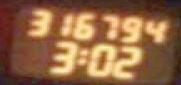0: (87, 41, 113, 77)
1: (56, 9, 70, 36)
2: (113, 44, 143, 79)
3: (50, 38, 73, 75), (25, 7, 50, 36)
4: (143, 17, 170, 44)
6: (73, 10, 95, 39)
7: (100, 12, 118, 41)
9: (120, 14, 140, 41)
X: (77, 46, 87, 67)
